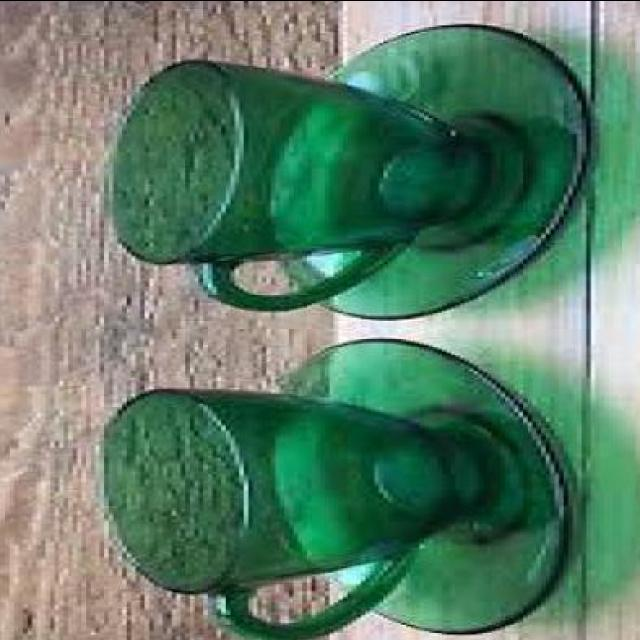kaca: (95, 385, 488, 640), (262, 21, 592, 317), (103, 57, 470, 310), (271, 334, 569, 632)
